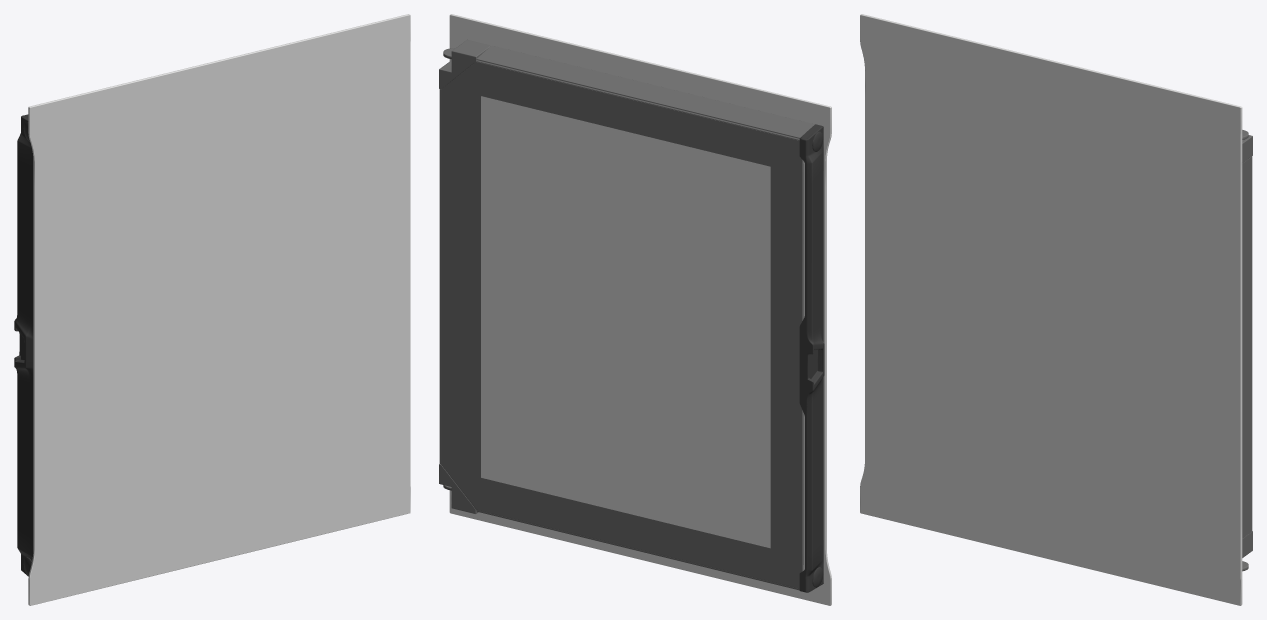
Rendered from SM_Oven_Door.dae.
The picture shows the model from 3 angles, left to right: view 1: azimuth 30°, elevation 25°; view 2: azimuth 150°, elevation 25°; view 3: azimuth 330°, elevation 25°; orthographic projection.
Parts seen in each view (by area): view 1: SM_Oven_Door; view 2: SM_Oven_Door; view 3: SM_Oven_Door.
Boxes of the visible parts, bbox=[...] form: SM_Oven_Door: bbox=[14, 14, 410, 605]; SM_Oven_Door: bbox=[439, 14, 831, 605]; SM_Oven_Door: bbox=[860, 14, 1252, 605].
Size of the model in its own units: 0.4731 by 0.0371 by 0.5909.
4 materials, 2 textured.
